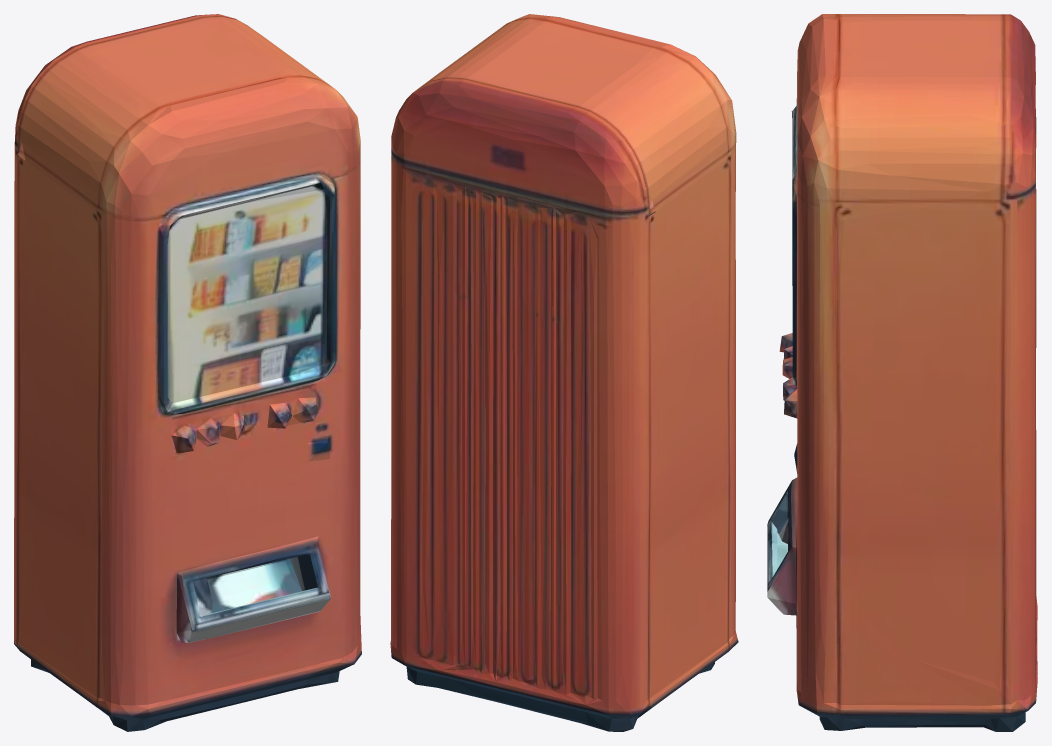
File: machine.glb
3 views of the same model, side by side, from view 1: azimuth 30°, elevation 25°; view 2: azimuth 150°, elevation 25°; view 3: azimuth 270°, elevation 25° (orthographic). The views are drawn at different scales.
Parts seen in each view (by area): view 1: figure; view 2: figure; view 3: figure.
Boxes of the visible parts, <box> form: figure: <box>14,14,361,731</box>; figure: <box>390,14,738,731</box>; figure: <box>767,14,1037,731</box>.
Size of the model in its own units: 0.4414 by 1 by 0.3898.
1 material, 1 textured.
